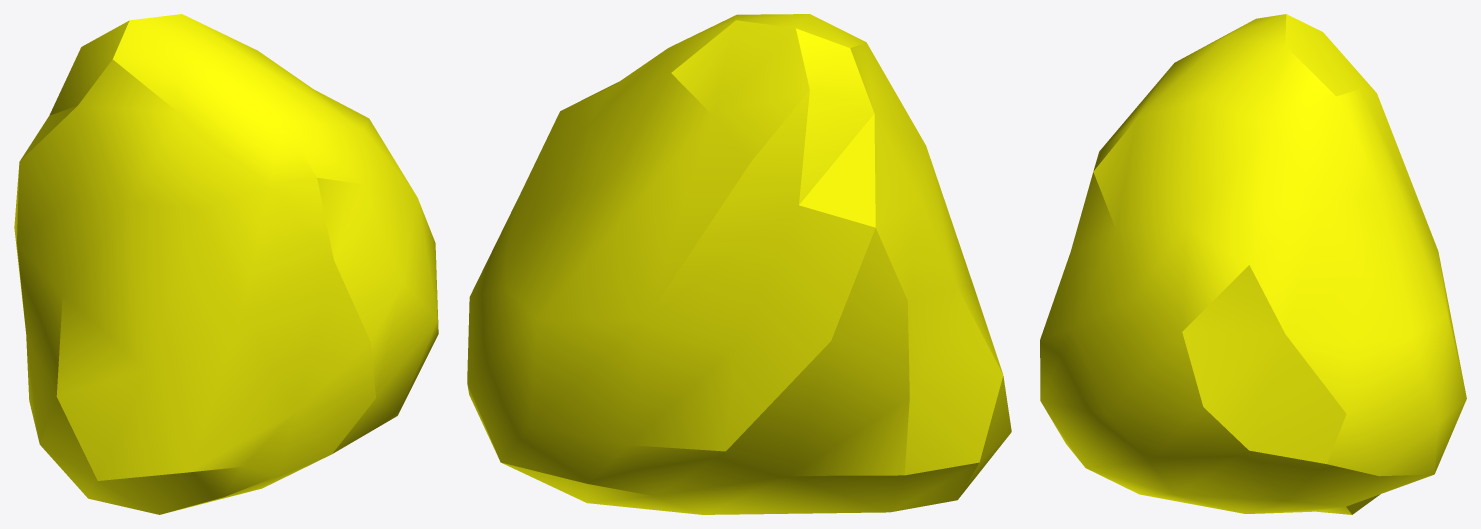
File: kaykit-rock-3-g-color-1.glb
The picture shows the model from 3 angles, left to right: view 1: azimuth 30°, elevation 25°; view 2: azimuth 150°, elevation 25°; view 3: azimuth 270°, elevation 25°; orthographic projection. The views are drawn at different scales.
Visible parts, largest first — view 1: Rock_3_G_Color1; view 2: Rock_3_G_Color1; view 3: Rock_3_G_Color1.
Part boxes in pixels (x1,y1,x2,y2): Rock_3_G_Color1: (14, 14, 438, 514); Rock_3_G_Color1: (467, 14, 1011, 514); Rock_3_G_Color1: (1040, 14, 1466, 514).
Size of the model in its own units: 1.86 by 2 by 1.73.
